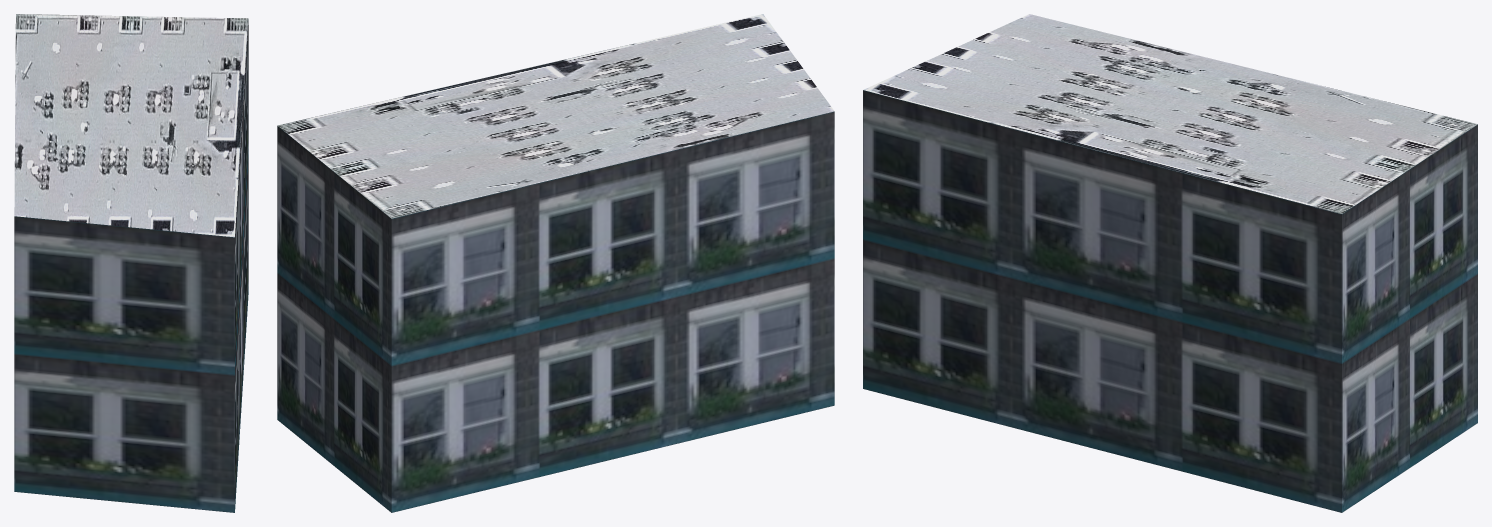
The model's file is ResTex__5169.fbx.
3 views of the same model, side by side, from view 1: azimuth 30°, elevation 25°; view 2: azimuth 150°, elevation 25°; view 3: azimuth 270°, elevation 25° (orthographic). The views are drawn at different scales.
Visible parts, largest first — view 1: CityEngineMaterial_11_m, CityEngineMaterial_8_m; view 2: CityEngineMaterial_11_m, CityEngineMaterial_8_m; view 3: CityEngineMaterial_11_m, CityEngineMaterial_8_m.
Boxes of the visible parts, bbox=[...] form: CityEngineMaterial_11_m: bbox=[14, 19, 248, 512]; CityEngineMaterial_8_m: bbox=[14, 14, 248, 237]; CityEngineMaterial_11_m: bbox=[277, 111, 834, 512]; CityEngineMaterial_8_m: bbox=[277, 14, 834, 218]; CityEngineMaterial_11_m: bbox=[863, 90, 1477, 512]; CityEngineMaterial_8_m: bbox=[863, 14, 1477, 213].
Bounding box in the file's own units: 8.62 × 6 × 11.19.
Materials: 2 (2 with a texture image).
